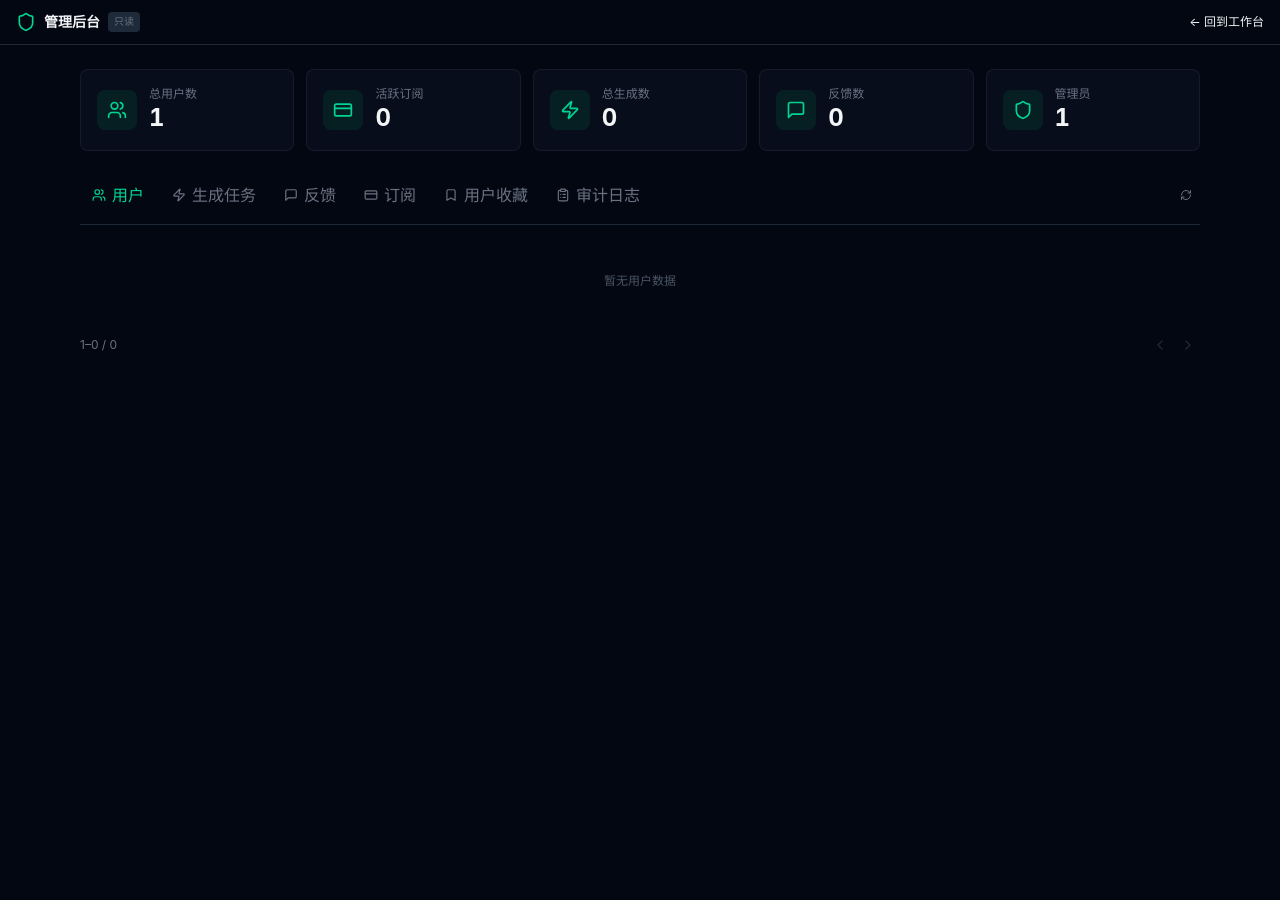
Test: 管理员中文可读标签 › 列表与详情将 spoken 映射口播稿；platform=all 回退 variantKey；标签中文
Click the button "用户收藏" at (486, 195), box [432,175,540,216]
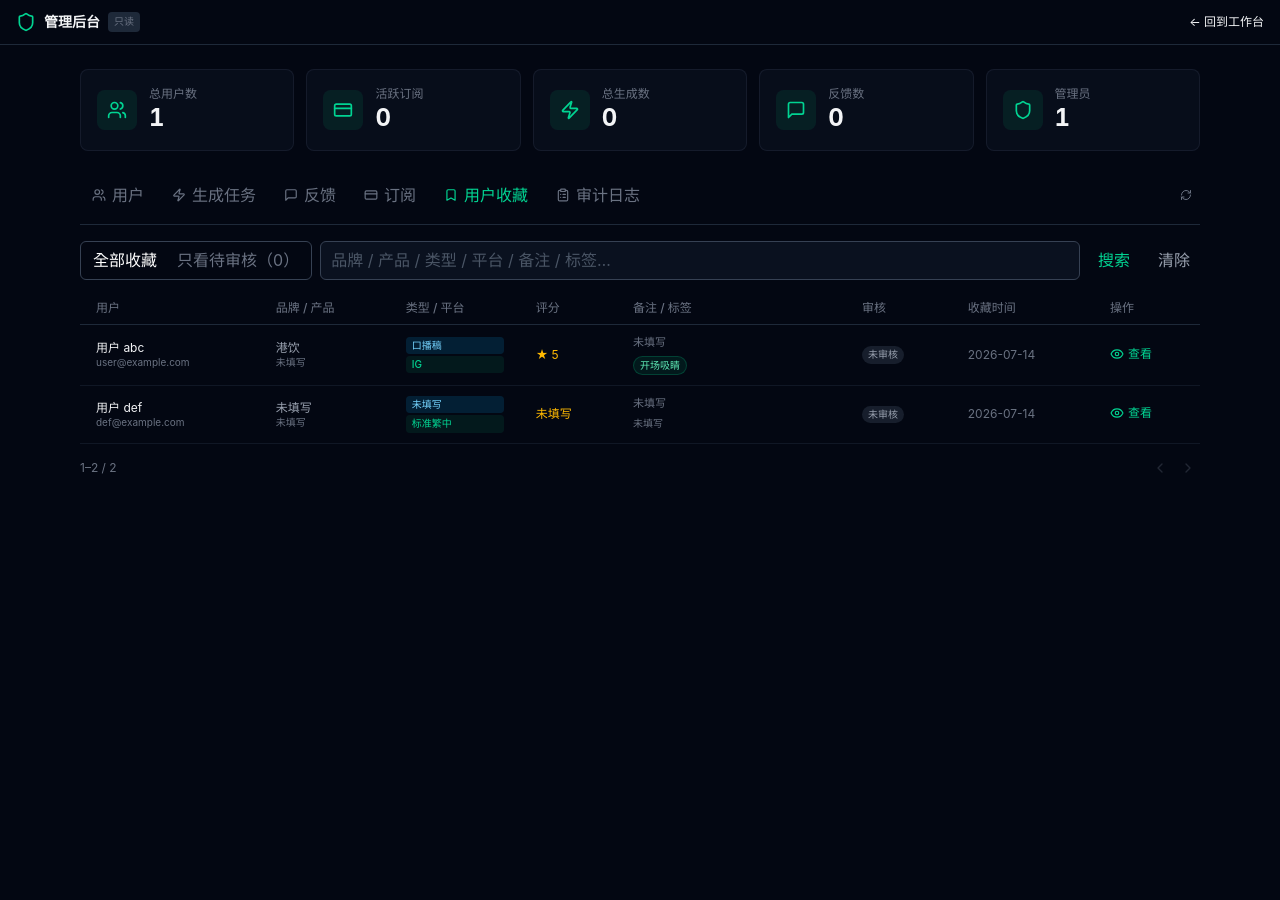
Expected: the text "口播稿" is shown, [406,337,504,354]
Expected: the text "IG" is shown, [406,356,504,373]
Expected: the text "开场吸睛" is shown, [633,356,687,375]
Click the button with aria-label "查看收藏详情" at (1131, 354), box [1110,346,1152,362]
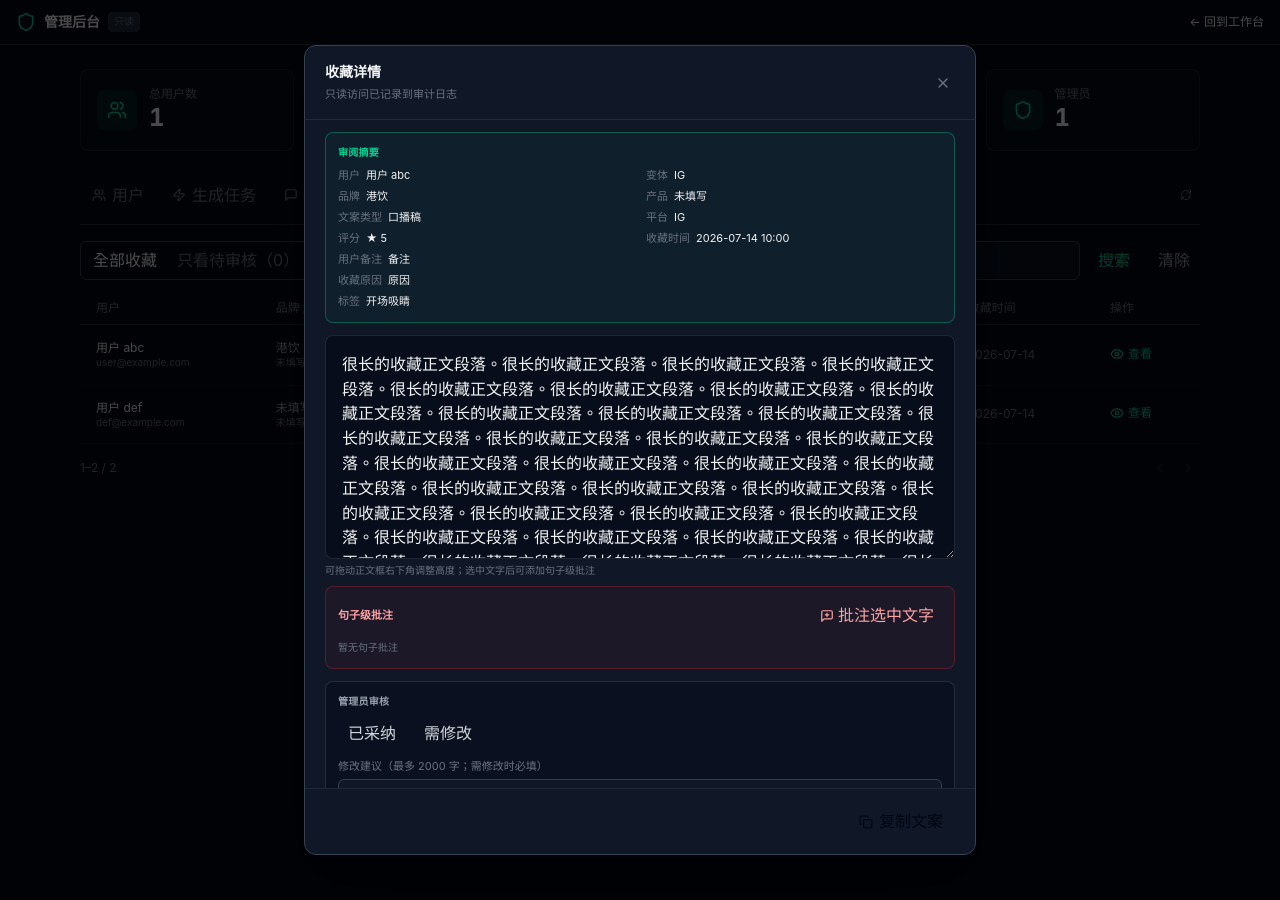
Expected: the element with test id "favorite-review-summary" is shown, [325,132,955,323]
Expected: the element with test id "favorite-review-summary" shows "口播稿", [388,210,421,224]
Expected: the element with test id "favorite-review-summary" shows "IG", [674,168,685,182]
